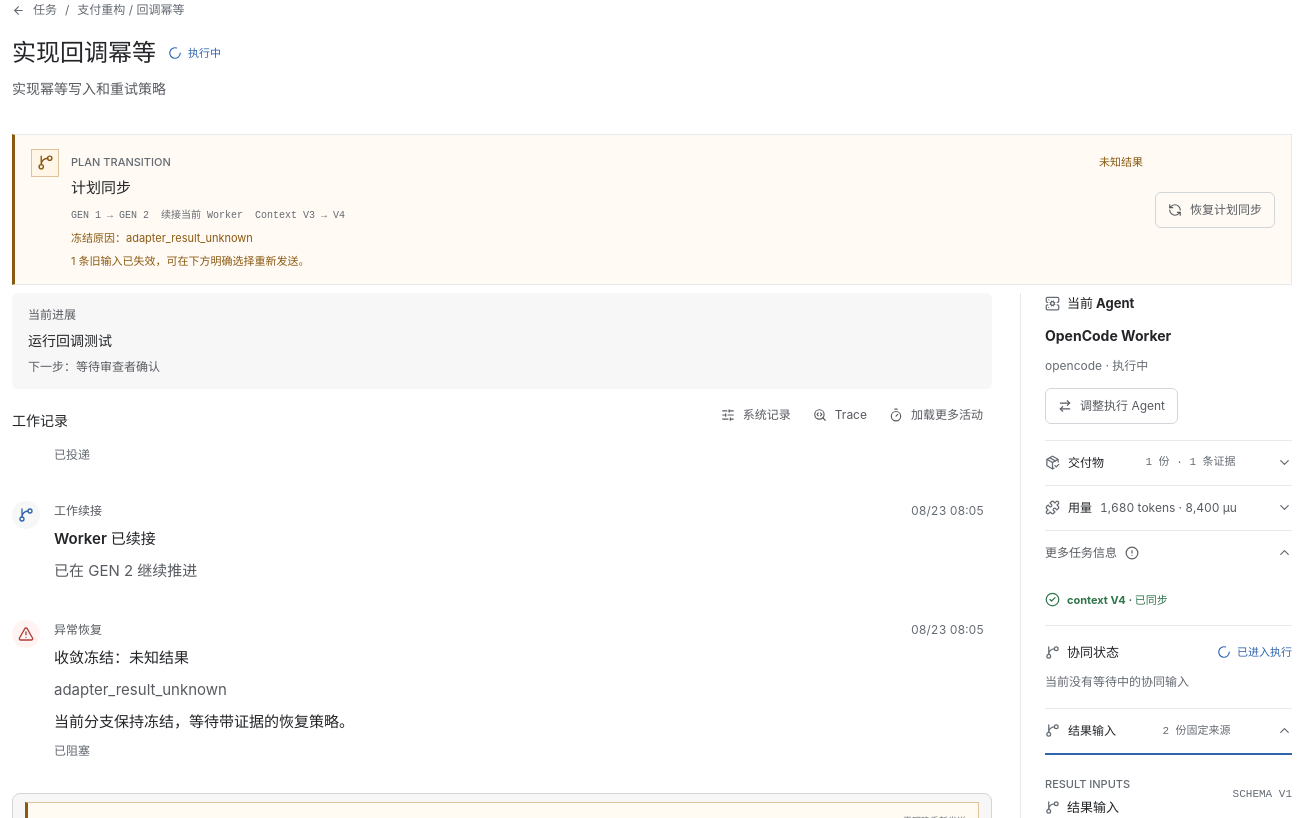
Test: WorkerItemPage › loads older activity without duplicating an existing item
(page scrolled)
Click the button "系统记录": [756, 415] box [712, 399, 800, 431]
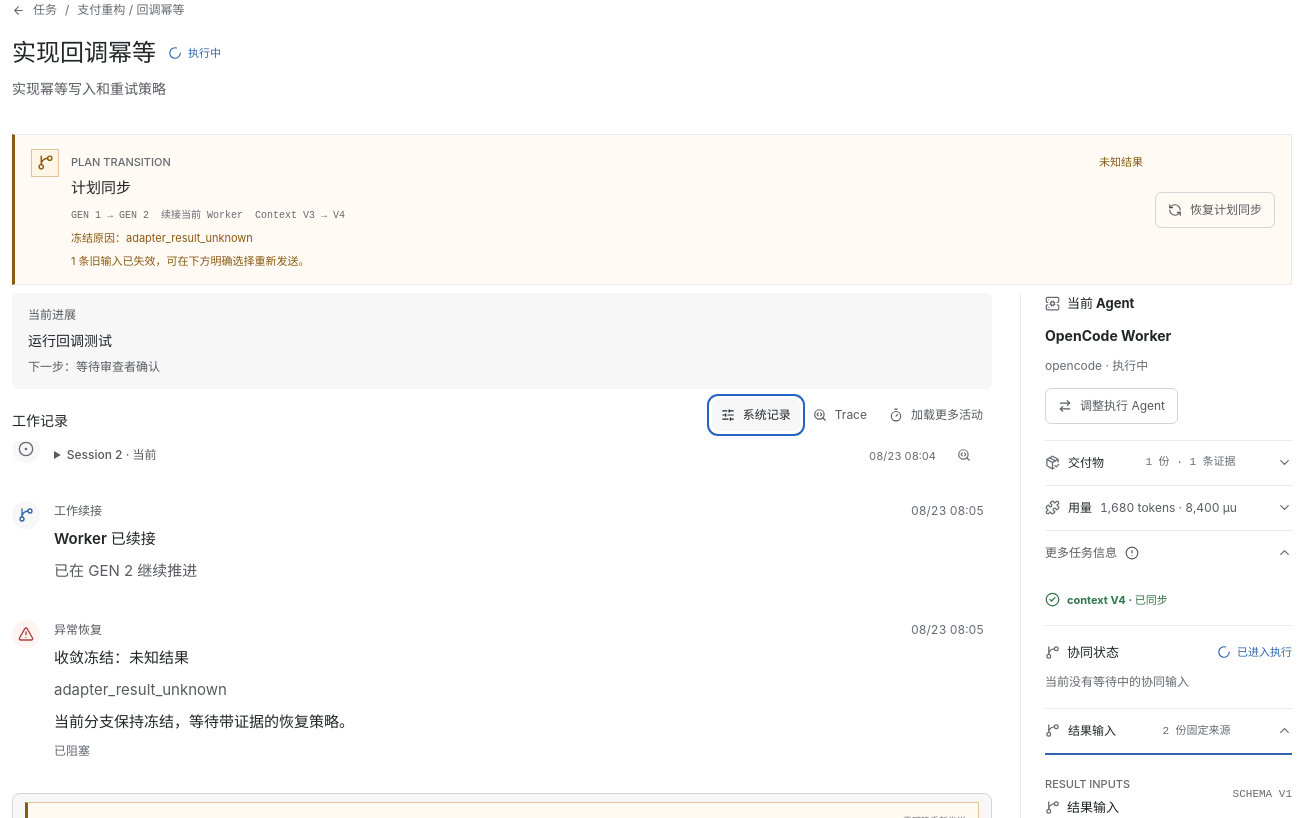
Click the button "加载更多活动": [936, 415] box [880, 399, 992, 431]
(page scrolled)
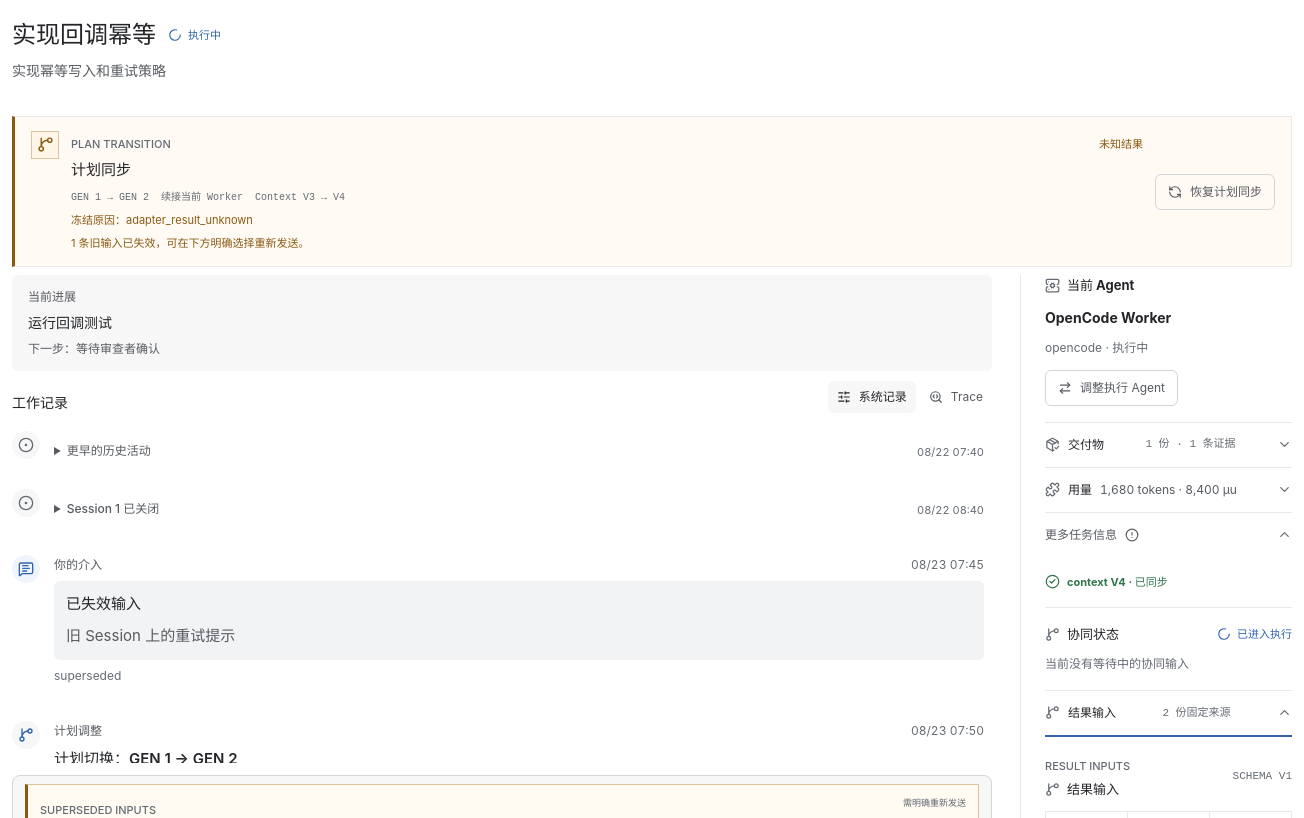
Expected: the text "更早的历史活动" is shown, [67, 443, 151, 458]
